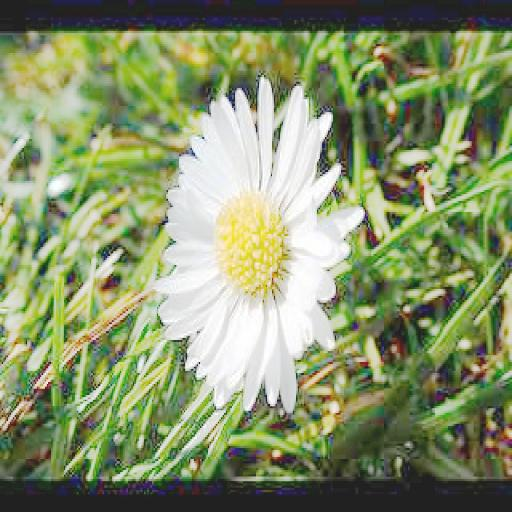daisy: (158, 84, 349, 406)
